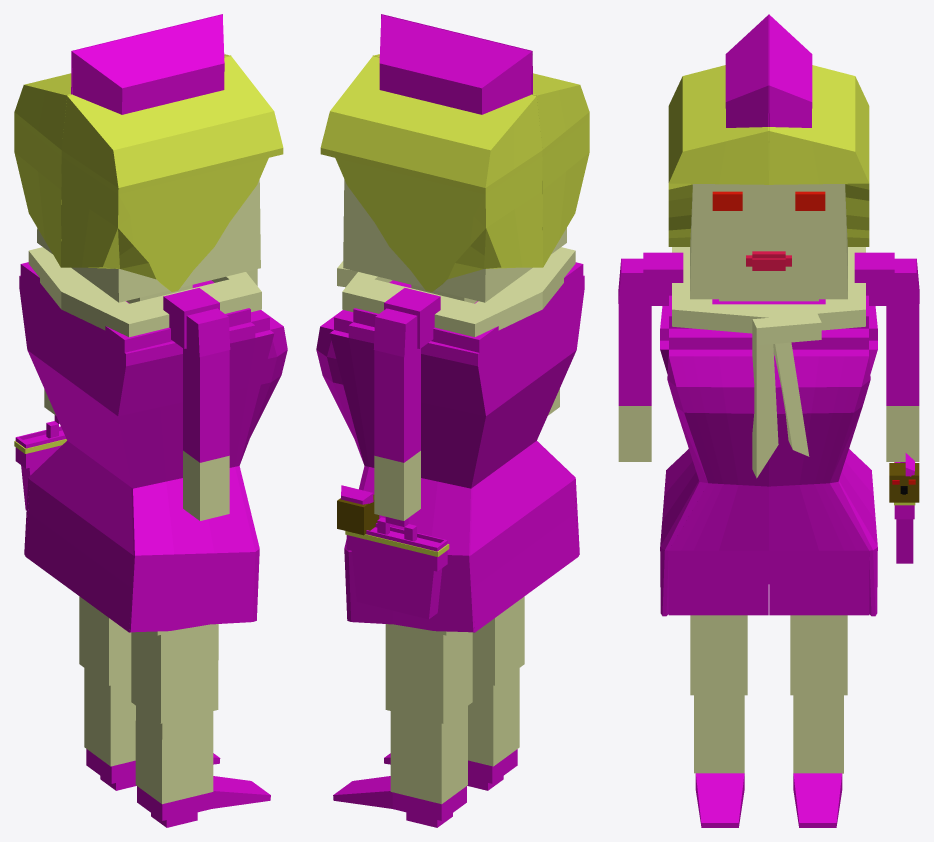
The model's file is Blonda.fbx.
The picture shows the model from 3 angles, left to right: view 1: azimuth 30°, elevation 25°; view 2: azimuth 150°, elevation 25°; view 3: azimuth 270°, elevation 25°; orthographic projection. The views are drawn at different scales.
Parts seen in each view (by area): view 1: Character, head.002, Cube.010, Cube.001, Cube.007, head, Cube.005, Cube.004, Cube.000, Cube, Cube.009, RightArm (+1 smaller); view 2: Character, head.002, Cube, Cube.003, Cube.004, Cube.005, head, Cube.007, Cube.001, Cube.006, Cube.002, LeftArm (+1 smaller); view 3: Character, head.002, head, Cube.010, Cube.003, Cube.004, Cube.001, Cube.005, Cube.007, Cube.006, Cube.000, Cube (+4 smaller).
Part boxes in pixels (bbox=[...]): Character: bbox=[19, 247, 287, 632]; head.002: bbox=[14, 14, 283, 291]; Cube.010: bbox=[183, 348, 229, 520]; Cube.001: bbox=[131, 624, 218, 723]; Cube.007: bbox=[135, 706, 213, 804]; head: bbox=[37, 180, 260, 302]; Cube.005: bbox=[84, 668, 135, 766]; Cube.004: bbox=[79, 596, 131, 685]; Cube.000: bbox=[137, 776, 270, 827]; Cube: bbox=[14, 415, 66, 510]; Cube.009: bbox=[186, 308, 230, 357]; RightArm: bbox=[163, 288, 219, 348]; Character: bbox=[316, 247, 584, 632]; head.002: bbox=[320, 14, 589, 291]; Cube: bbox=[337, 485, 449, 619]; Cube.003: bbox=[374, 348, 420, 520]; Cube.004: bbox=[385, 624, 472, 723]; Cube.005: bbox=[390, 706, 467, 804]; head: bbox=[343, 179, 566, 302]; Cube.007: bbox=[468, 668, 519, 766]; Cube.001: bbox=[472, 596, 524, 685]; Cube.006: bbox=[333, 776, 466, 827]; Cube.002: bbox=[373, 308, 417, 357]; LeftArm: bbox=[384, 288, 440, 348]; Character: bbox=[660, 247, 877, 616]; head.002: bbox=[668, 14, 869, 246]; head: bbox=[690, 184, 847, 299]; Cube.010: bbox=[618, 304, 651, 461]; Cube.003: bbox=[886, 304, 919, 461]; Cube.004: bbox=[790, 615, 847, 695]; Cube.001: bbox=[690, 615, 747, 695]; Cube.005: bbox=[793, 695, 843, 773]; Cube.007: bbox=[694, 695, 744, 773]; Cube.006: bbox=[793, 773, 842, 827]; Cube.000: bbox=[695, 773, 744, 827]; Cube: bbox=[889, 453, 919, 563].
Bounding box in the file's own units: 212 × 816 × 301.
